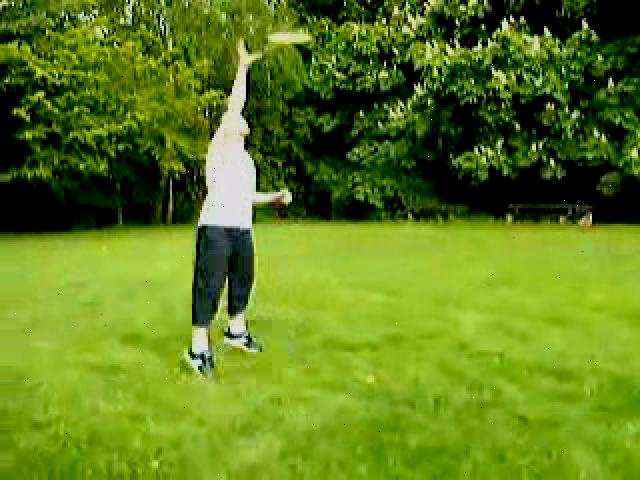T: (178, 35, 296, 380)
